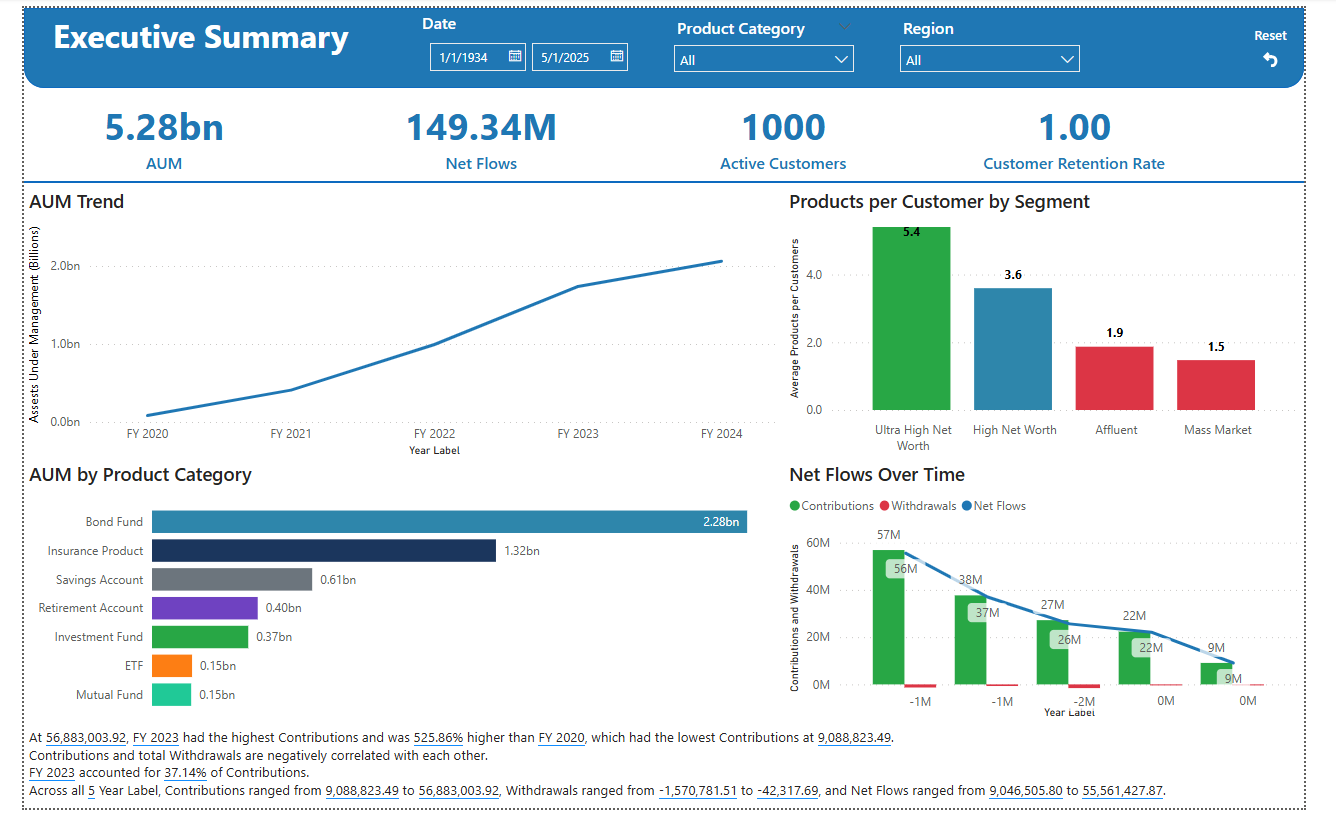

Layout of this report page (visuals, bound fields, positions):
{"tool":"powerbi","page":{"name":"Executive Summary","canvas":[1280,800],"ordinal":0},"visuals":[{"type":"card","fields":{"Values":["account_balances.Total AUM"]},"box":[0,87.1,280.1,80.6],"z":0},{"type":"barChart","title":"AUM by Product Category","fields":{"Category":["products.product_category"],"Y":["account_balances.Total AUM"]},"box":[0,453.4,759.7,261.4],"z":1000},{"type":"lineChart","title":"AUM Trend","fields":{"Y":["customers.AUM Trend Display"],"Category":["Date.Year Label"]},"box":[0,179.9,759.7,273.5],"z":2000},{"type":"lineClusteredColumnComboChart","title":"Net Flows Over Time","fields":{"Category":["Date.Year Label"],"Y":["Sum(account_balances.contributions_mtd)","account_balances.Withdrawals Negative"],"Y2":["account_balances.Net Flows"]},"box":[759.7,453.4,519.9,261.4],"z":3000},{"type":"columnChart","title":"Products per Customer by Segment","fields":{"Y":["customers.Products Per Customer"],"Category":["customers.customer_segment"]},"box":[759.7,179.9,519.9,273.5],"z":4000},{"type":"card","fields":{"Values":["customers.Active Customers"]},"box":[619.2,87.1,280.1,80.6],"z":5000},{"type":"card","fields":{"Values":["account_balances.Net Flows"]},"box":[316.6,87.1,280.1,80.6],"z":6000},{"type":"card","fields":{"Values":["customers.Customer Retention Rate"]},"box":[909.6,87.1,280.1,80.6],"z":7000},{"type":"shape","box":[0,0,1280,80],"z":8000},{"type":"textbox","box":[24,0,368,72],"z":9000},{"type":"slicer","title":"Date","fields":{"Values":["Date.Date"]},"box":[392.5,3.7,240.7,68.4],"z":10000},{"type":"slicer","fields":{"Values":["customers.customer_segment"]},"box":[639.8,3.7,200.5,68.4],"z":11000},{"type":"slicer","fields":{"Values":["customers.address_state"]},"box":[865.6,3.7,200.5,68.4],"z":12000},{"type":"actionButton","title":"Reset","box":[1227.2,17.8,38.4,45],"z":13000},{"type":"textbox","box":[0,714.8,1279.6,85.2],"z":14000},{"type":"shape","box":[0,167.7,1279.6,12.2],"z":15000}]}

Visuals, with their boxes in screenshot pixels (x1, y1, x2, y2), scaled from the page's 1280x800 canvas onto the 1336x817 screenshot:
card - account_balances.Total AUM: rect(0, 89, 292, 171)
"AUM by Product Category" barChart: rect(0, 463, 793, 730)
"AUM Trend" lineChart: rect(0, 184, 793, 463)
"Net Flows Over Time" lineClusteredColumnComboChart: rect(793, 463, 1335, 730)
"Products per Customer by Segment" columnChart: rect(793, 184, 1335, 463)
card - customers.Active Customers: rect(646, 89, 939, 171)
card - account_balances.Net Flows: rect(330, 89, 623, 171)
card - customers.Customer Retention Rate: rect(949, 89, 1242, 171)
shape: rect(0, 0, 1335, 82)
textbox: rect(25, 0, 409, 74)
"Date" slicer: rect(410, 4, 661, 74)
slicer - customers.customer_segment: rect(668, 4, 877, 74)
slicer - customers.address_state: rect(903, 4, 1113, 74)
"Reset" actionButton: rect(1281, 18, 1321, 64)
textbox: rect(0, 730, 1335, 816)
shape: rect(0, 171, 1335, 184)
